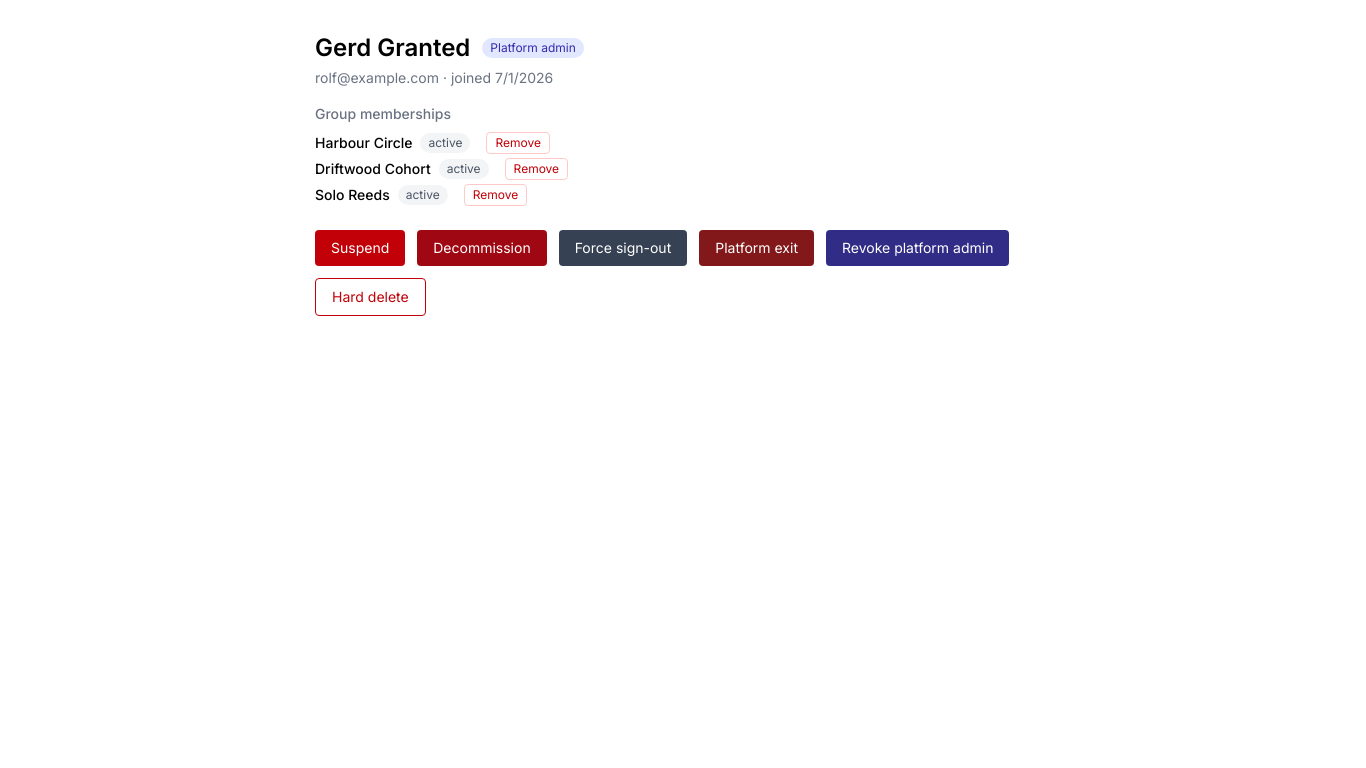
AdminMemberDetail (FEAT-H036 STORY-2..6) › STORY-6 self-revoke: the ceremony names the self-demotion
The image size is (1366, 768).
Expected: the heading "Gerd Granted" is shown, [315, 32, 470, 64]
Click the button with test id "revoke-admin" at {"x": 918, "y": 248}, box [826, 230, 1009, 266]
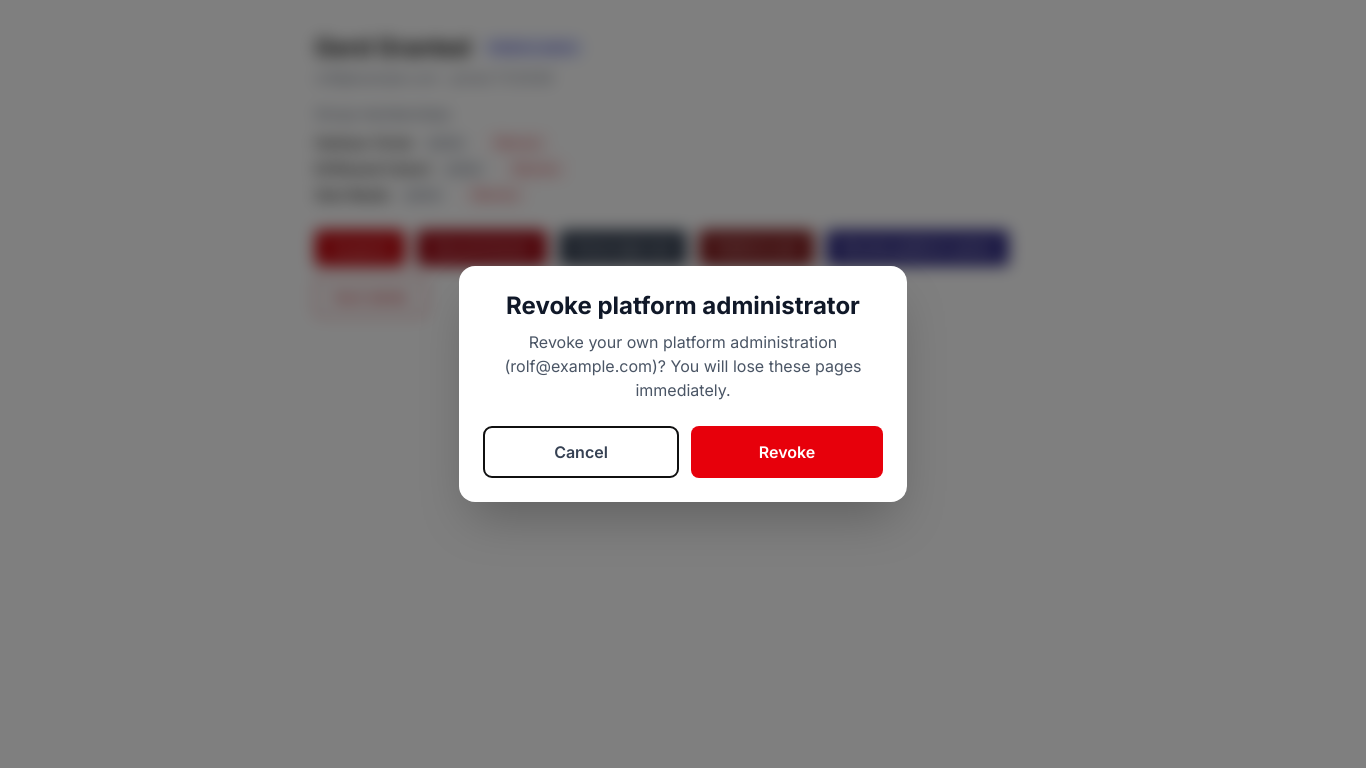
Expected: the text "you will lose these pages immediately" is shown, [504, 332, 862, 400]
